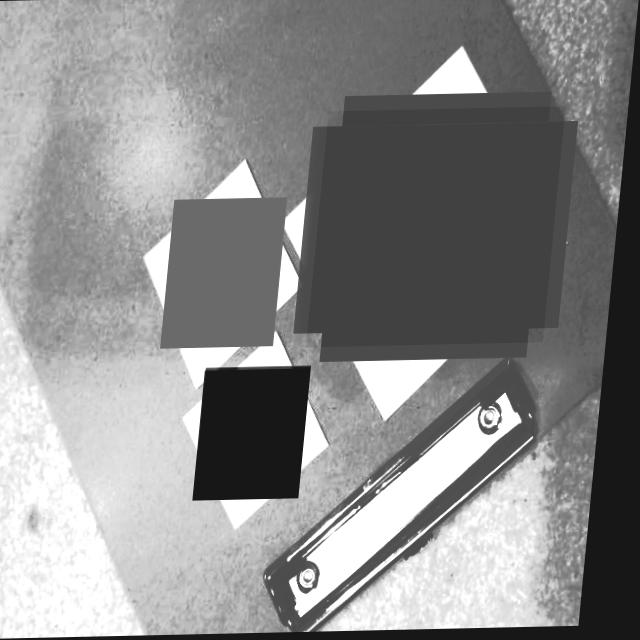qr_code: (313, 108, 568, 348), (167, 198, 292, 349), (203, 366, 319, 500)
